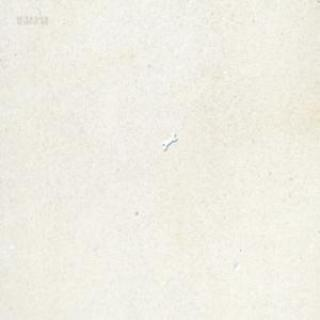Wrenchtrack_idkeyframe: (161, 132, 177, 150)
